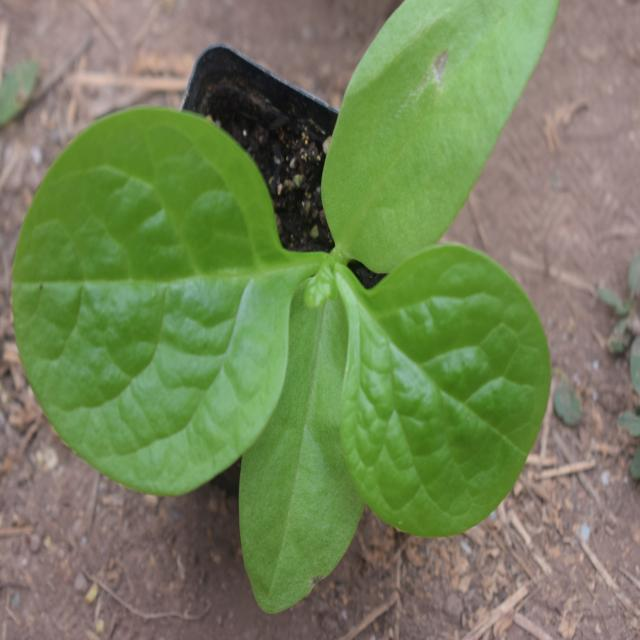Ceylon spinach: (26, 54, 552, 543)
